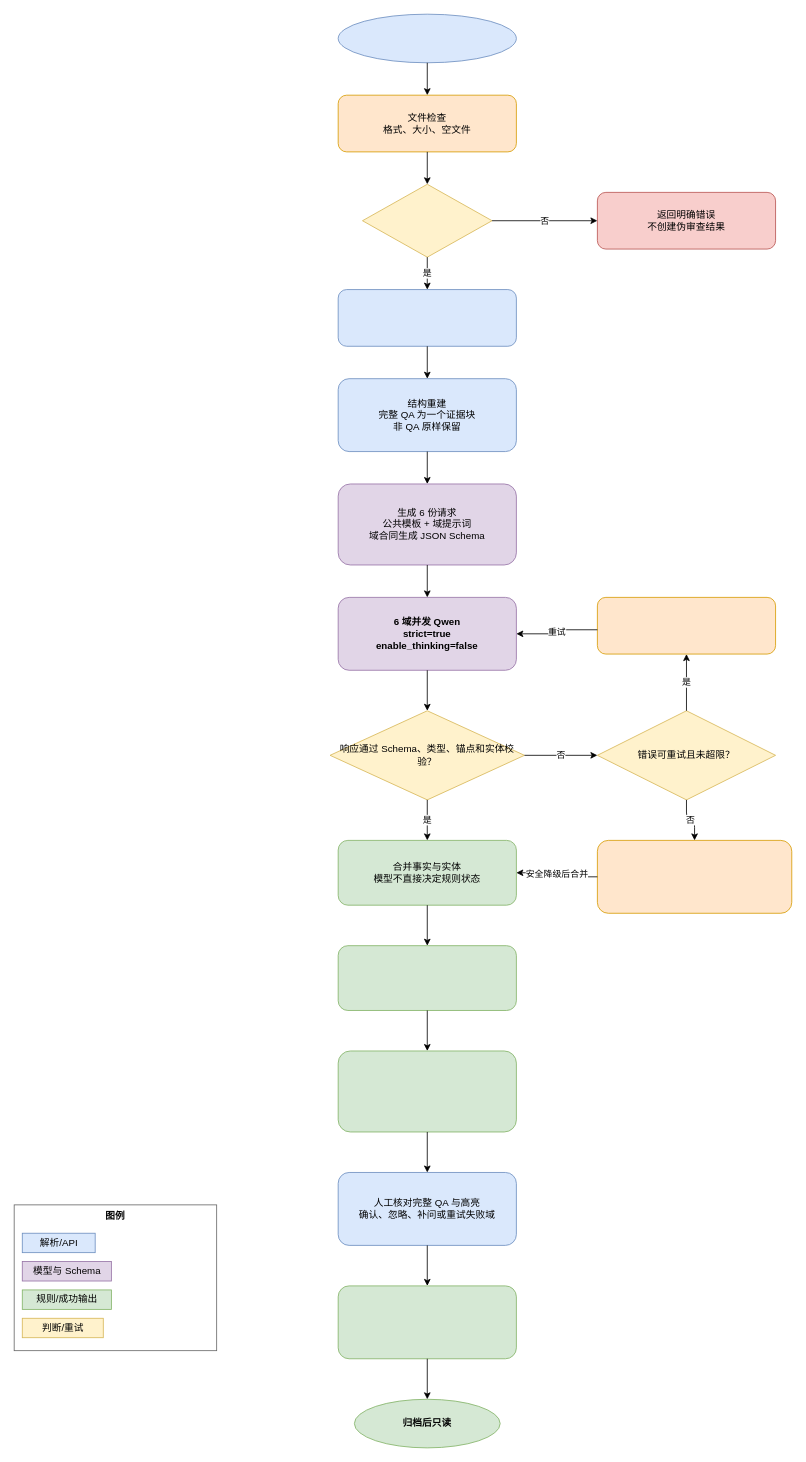
Some shapes in this 806 by 1462 pixel diagram are drawn without their labels. Each missing label, with the box of its shape:
Schema/证据类失败： 该域相关规则转待人工判断 其他域结果保留: (597, 840, 792, 913)
可解析？: (362, 183, 492, 257)
开始：上传 DOCX / PDF: (337, 13, 516, 63)
执行 34 条确定性规则 + 6 项一致性检查: (337, 945, 516, 1010)
文档标准化 保留页/段/坐标/图片引用: (337, 289, 516, 346)
生成审查 PDF、补问 DOCX、结构化 JSON 与归档清单: (337, 1285, 516, 1359)
输出六类状态 已通过 / 未询问 / 回答不清 事实矛盾 / 不适用 / 待人工判断: (337, 1050, 516, 1132)
附带上次校验反馈 仅重试失败域: (597, 597, 776, 654)
